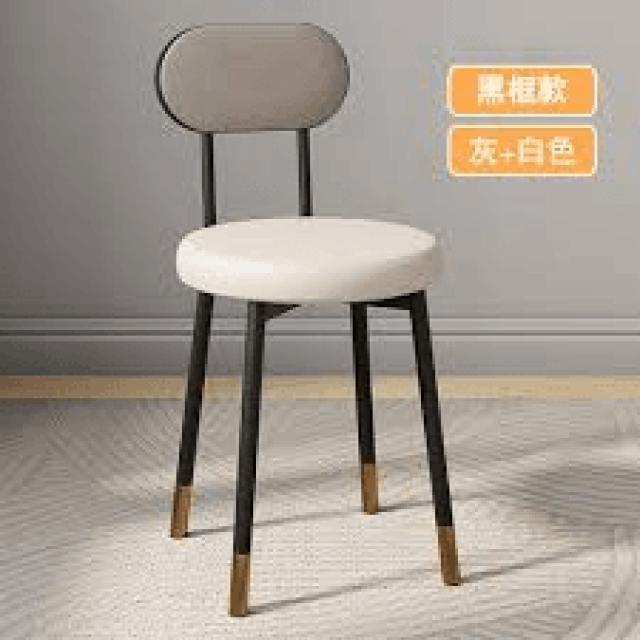chair: (150, 16, 466, 618), (146, 18, 430, 284)
